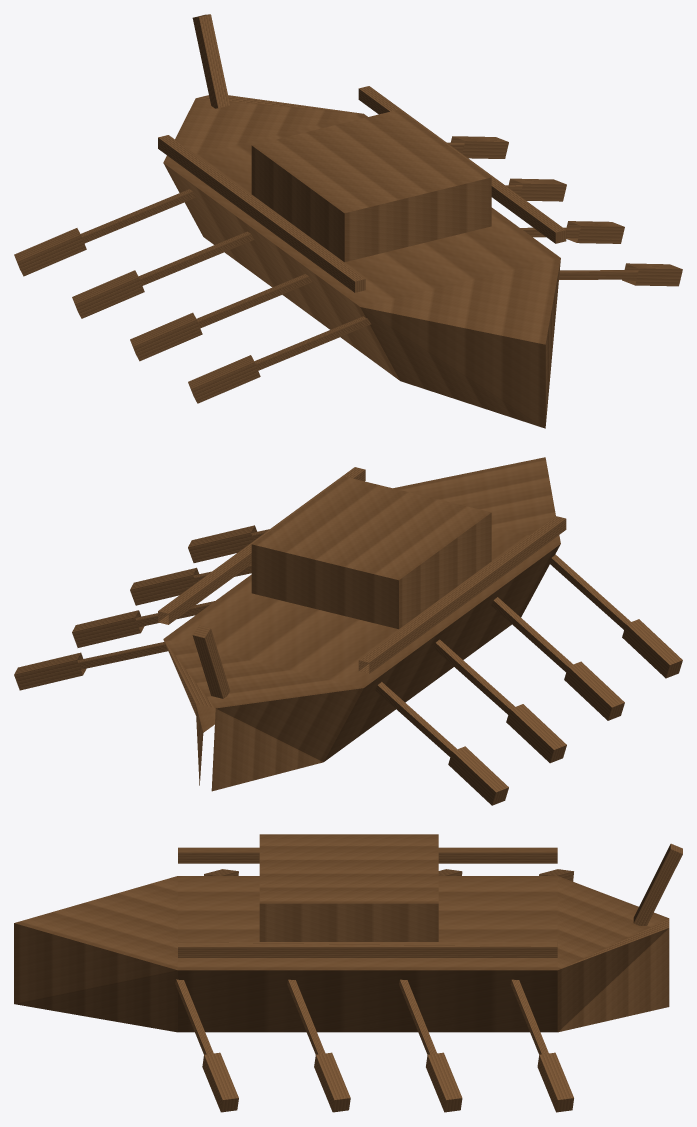
Rendered from unit-BOAT-lod1.glb.
3 views of the same model, one above another, from view 1: azimuth 30°, elevation 25°; view 2: azimuth 150°, elevation 25°; view 3: azimuth 270°, elevation 25° (orthographic). The views are drawn at different scales.
Size of the model in its own units: 0.7343 by 0.2337 by 0.8982.
Materials: 1 (1 with a texture image).
